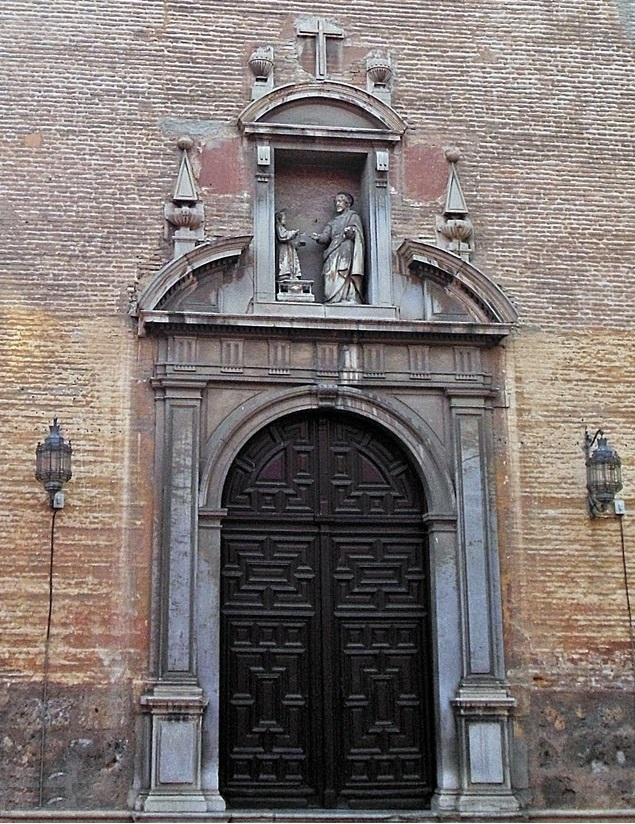arco-medio-punto: (214, 402, 446, 549)
fronton-curvo: (229, 77, 411, 151)
fronton-partido: (128, 230, 526, 345)
vano-adintelado: (252, 145, 397, 311)
